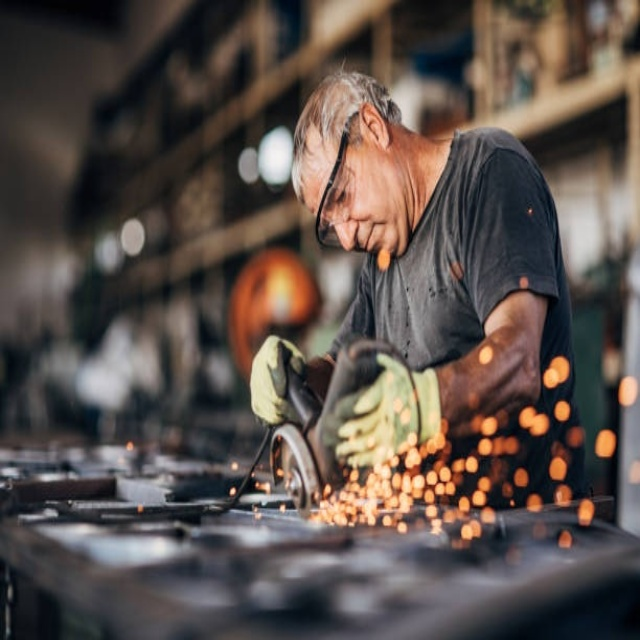Gafas: (317, 111, 360, 248)
Guantes: (323, 353, 441, 469), (249, 334, 310, 426)
Sin_mascara: (353, 212, 401, 256)
